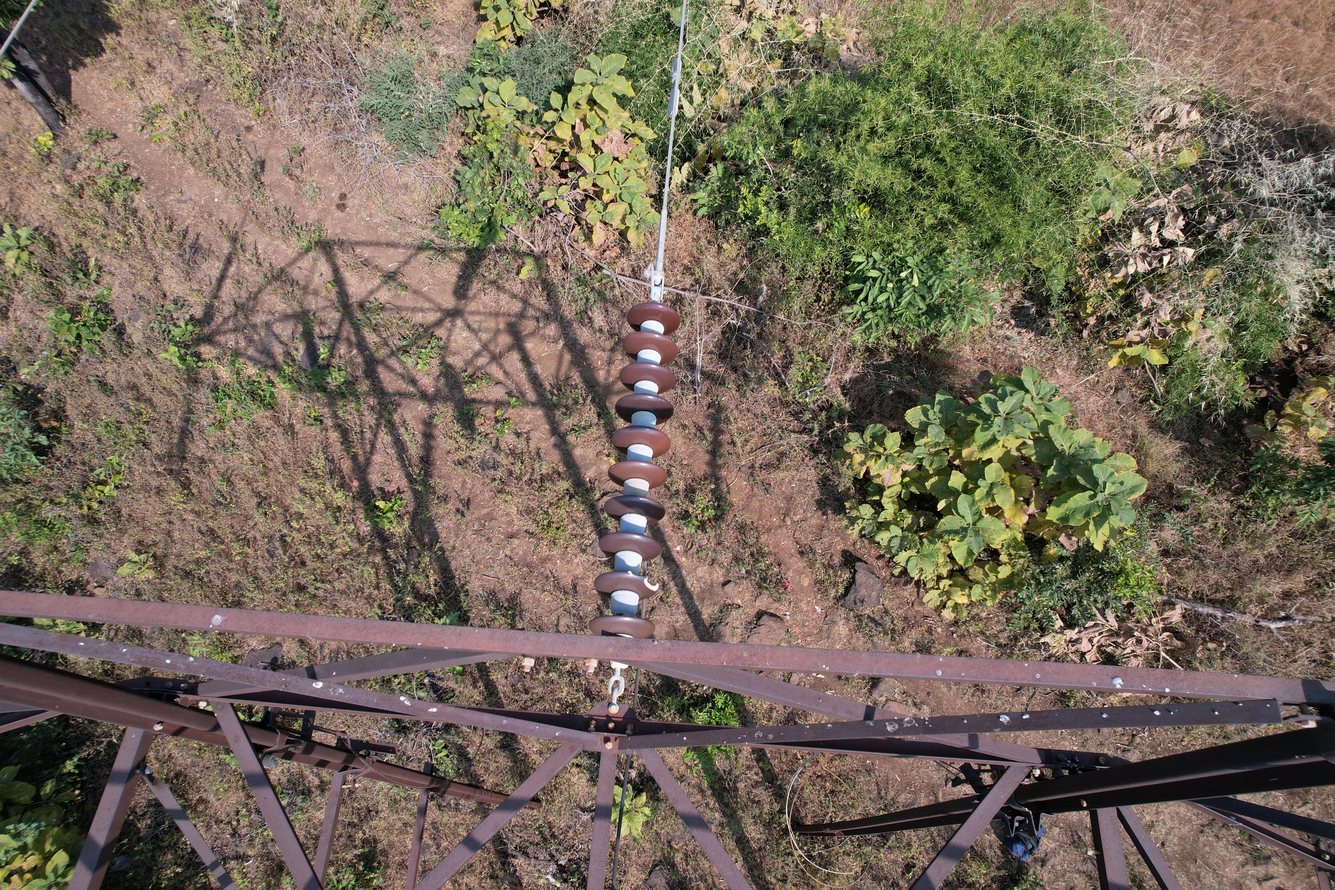broken_insulator: (592, 559, 663, 606)
